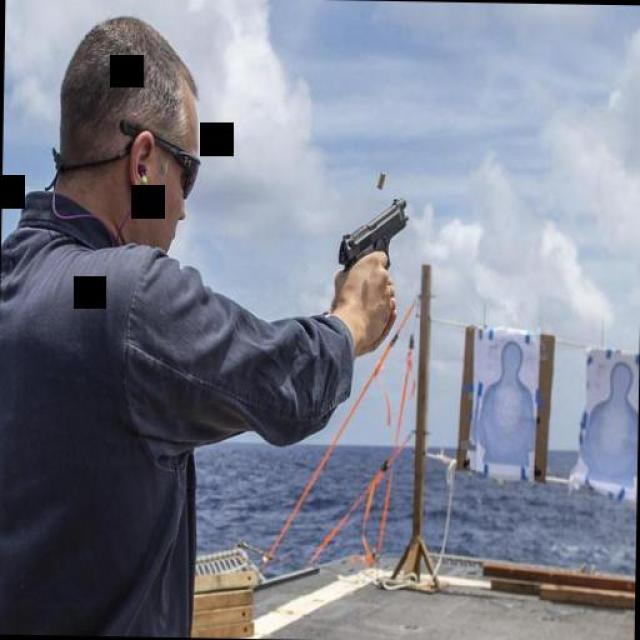gun: (335, 189, 406, 286)
